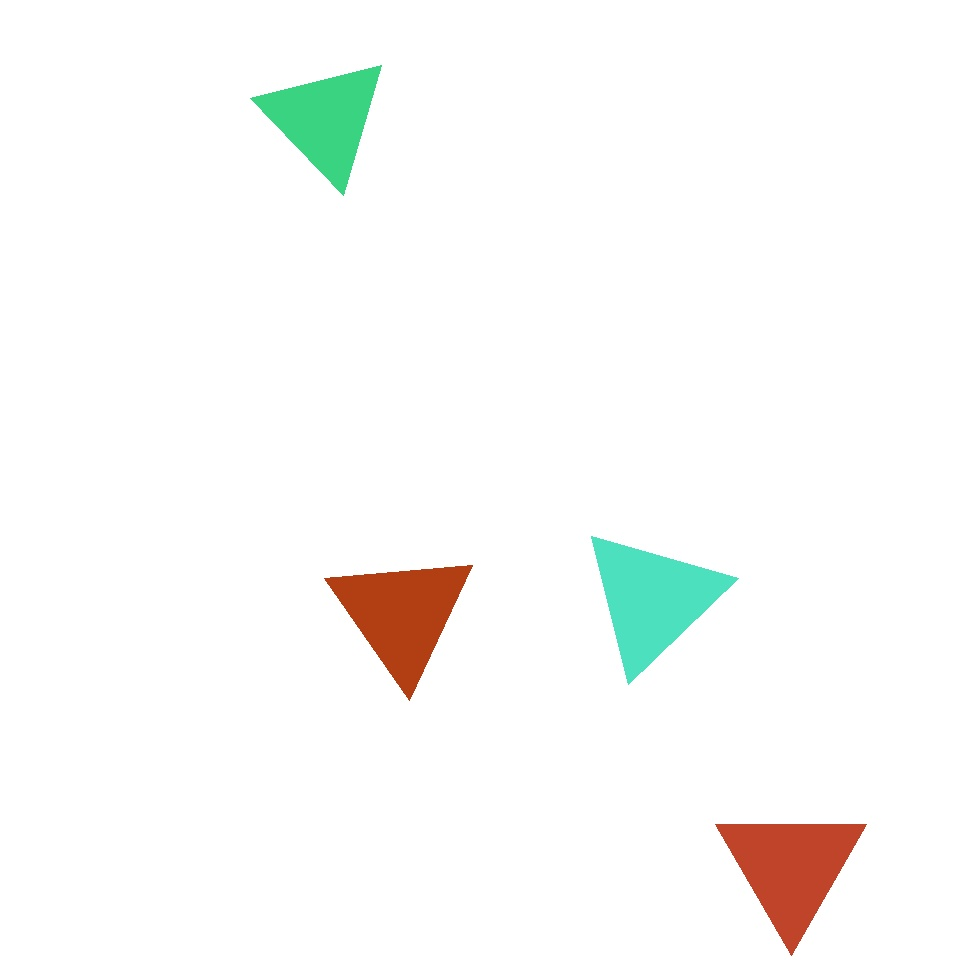circle: (580, 526, 726, 674), (328, 548, 476, 682), (716, 802, 866, 934), (260, 55, 390, 185)
square: (779, 678, 860, 760)
triangle: (115, 274, 494, 654), (622, 746, 816, 940), (12, 218, 176, 382)
